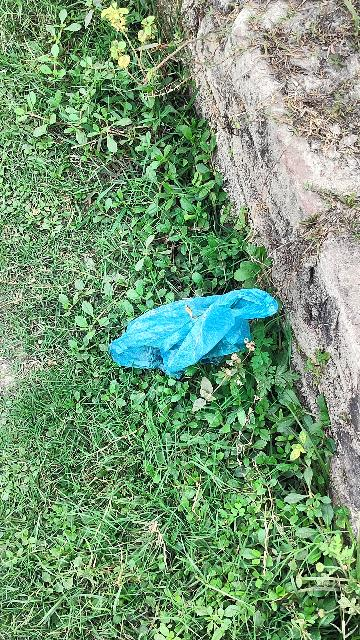polythene: (109, 286, 278, 376)
